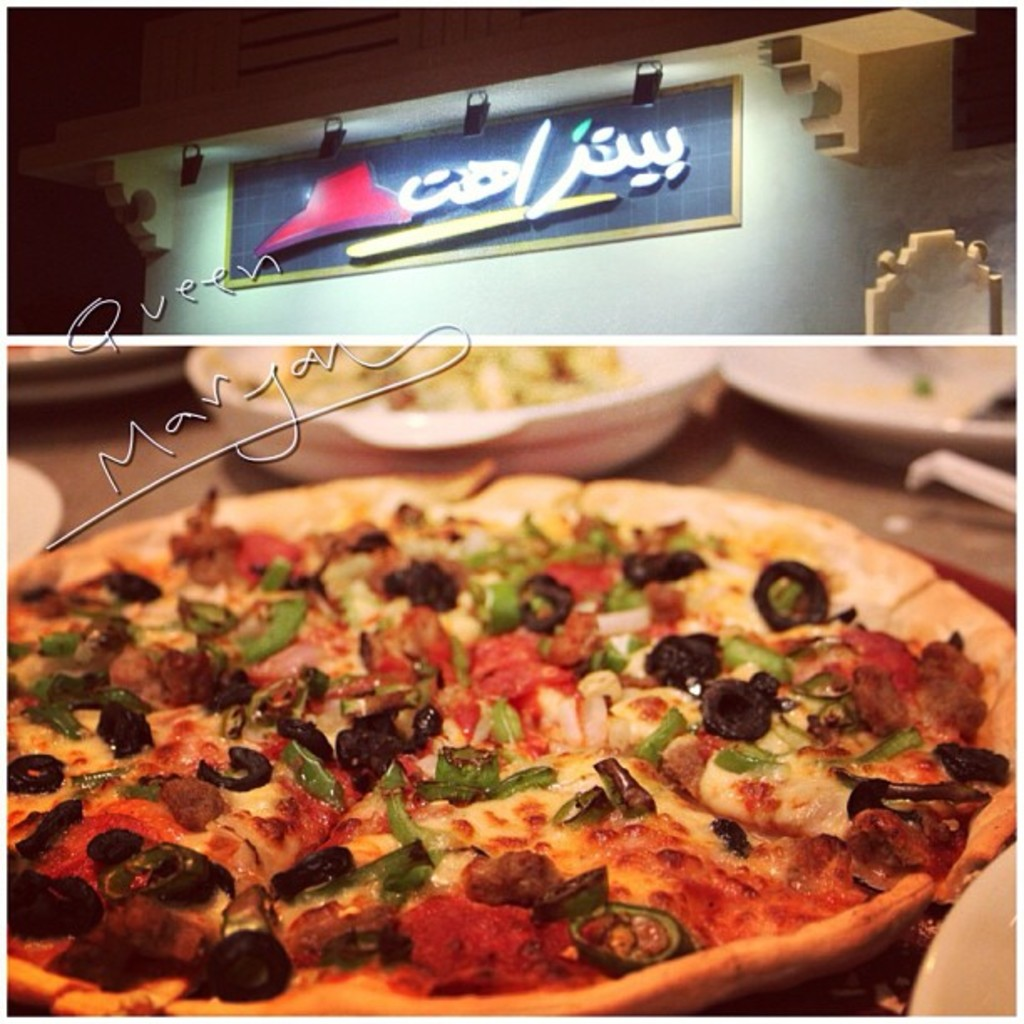Pizza: (63, 443, 952, 1024)
